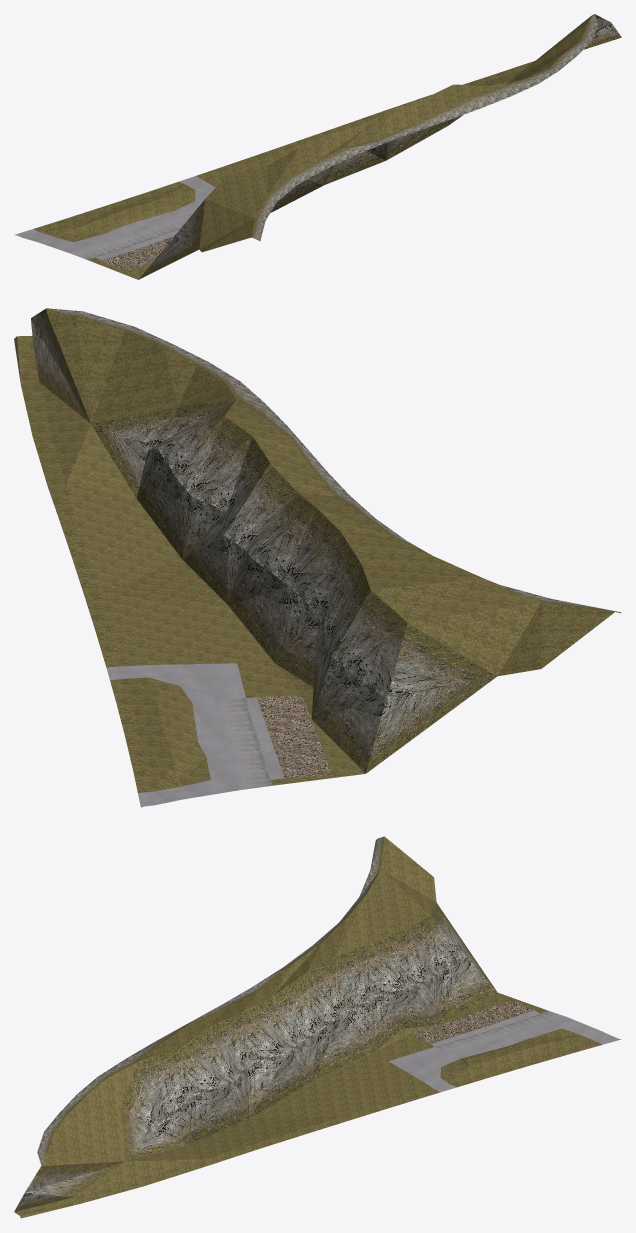
Rendered from lodcuntw18.obj.
3 renders of one model, top to bottom at view 1: azimuth 90°, elevation 25°; view 2: azimuth 150°, elevation 25°; view 3: azimuth 270°, elevation 25°, orthographic. The views are drawn at different scales.
Visible parts, largest first — view 1: lodcuntw18; view 2: lodcuntw18; view 3: lodcuntw18.
Part boxes in pixels (<box>): lodcuntw18: <box>15,14,621,279</box>; lodcuntw18: <box>14,308,621,807</box>; lodcuntw18: <box>14,836,620,1218</box>.
Bounding box in the file's own units: 323 × 52.91 × 284.
7 materials, 7 textured.
